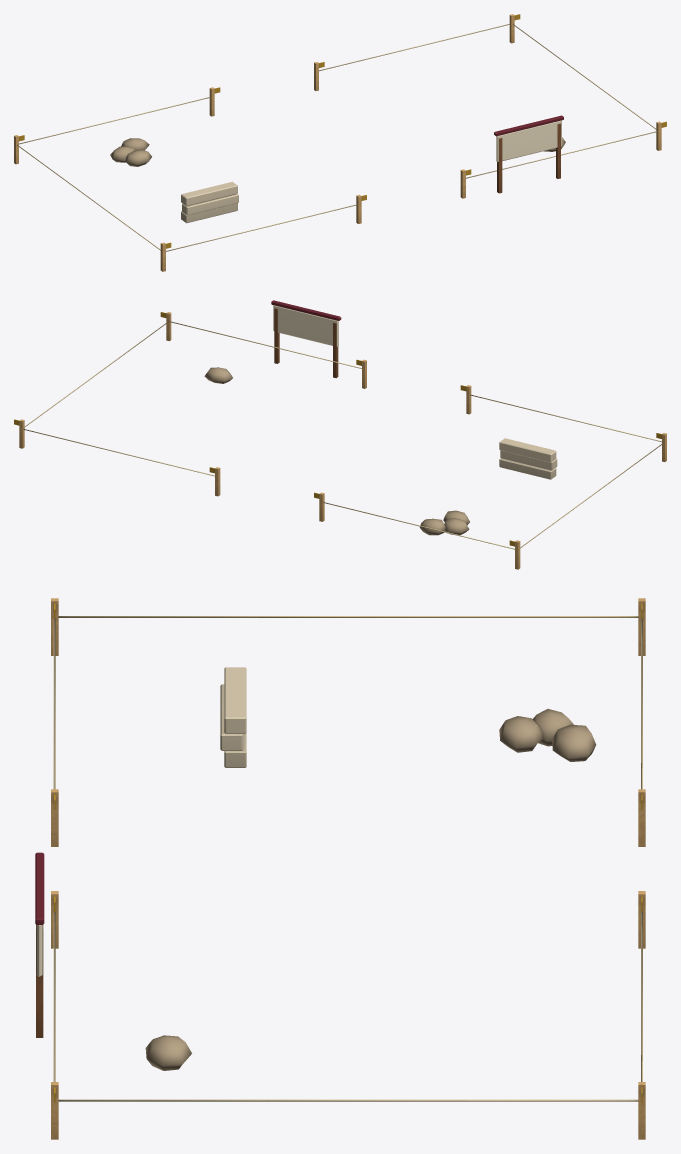
File: station_plot.glb
3 views of the same model, one above another, from view 1: azimuth 30°, elevation 25°; view 2: azimuth 150°, elevation 25°; view 3: azimuth 270°, elevation 25° (orthographic). The views are drawn at different scales.
Visible parts, largest first — view 1: station_plot; view 2: station_plot; view 3: station_plot.
Boxes of the visible parts, x1,y1,x2,y2 form: station_plot: [14, 14, 666, 271]; station_plot: [14, 300, 666, 569]; station_plot: [35, 598, 645, 1139].
Size of the model in its own units: 15.49 by 1.85 by 8.11.
1 material, 1 textured.
